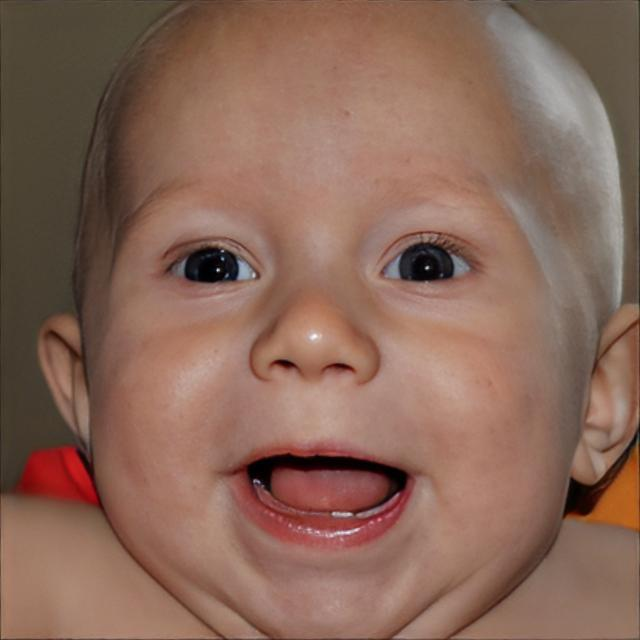surprise: (85, 0, 600, 640)
